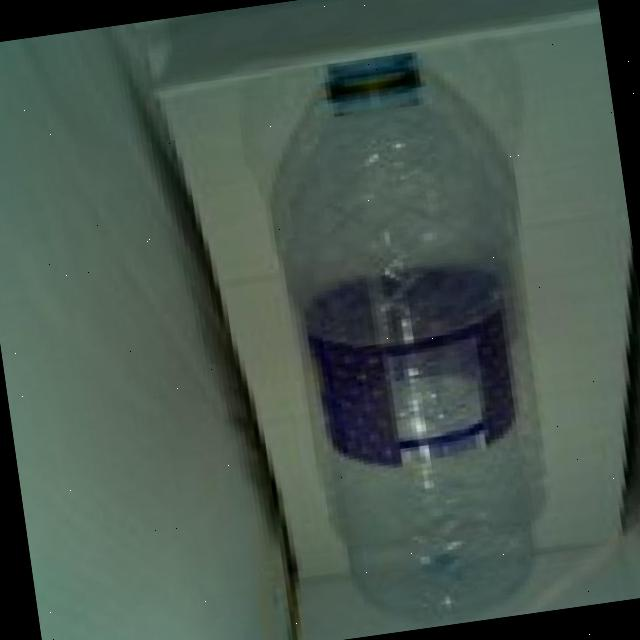trash: (223, 0, 595, 640)
